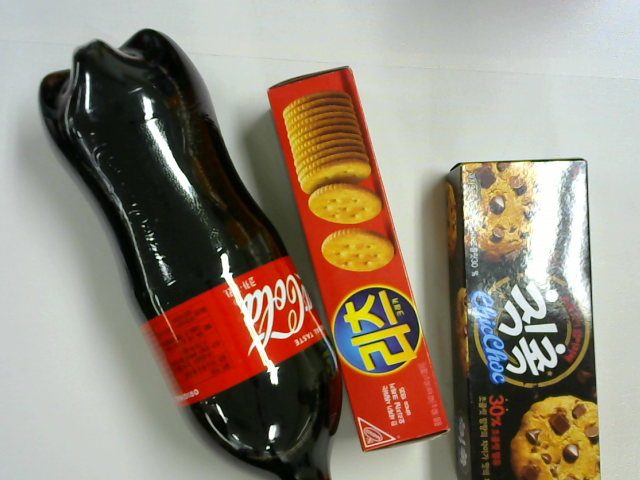Chicchok_Original_2400: (437, 135, 605, 480)
Coca_Cola_1.5L: (38, 11, 351, 480)
Ritz_Cracker: (265, 57, 447, 457)
